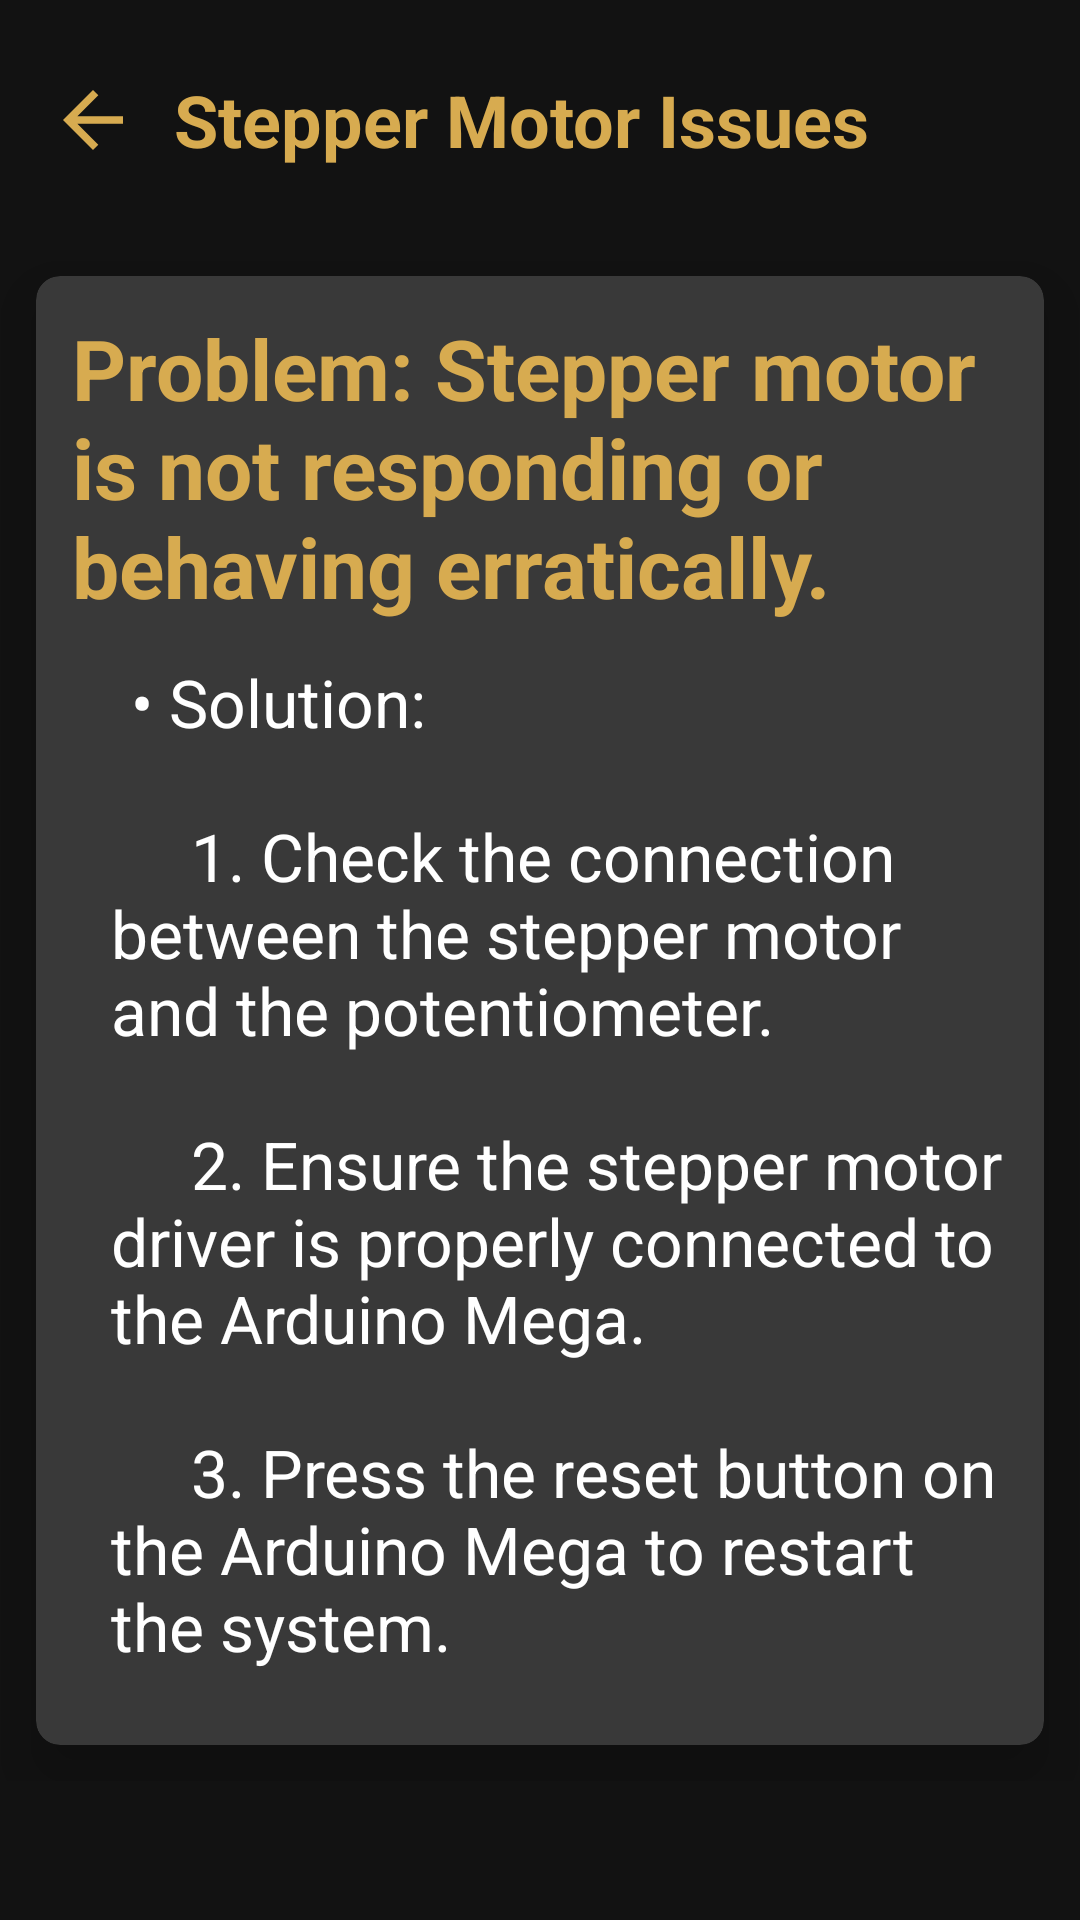

Locate icon controls on the screen. Image size 1080px×1920px, boxes as [left=x1, top=y1, right=x2, bottom=y2].
arrow back: [left=63, top=90, right=123, bottom=150]
